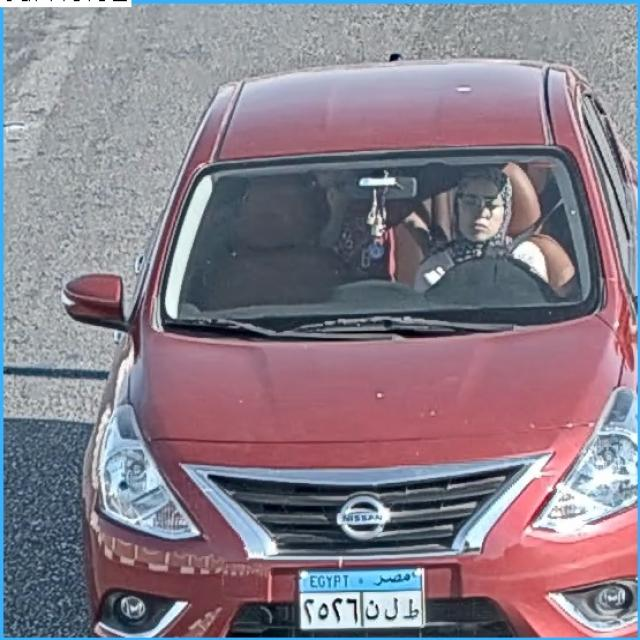windshield: (159, 164, 601, 320)
